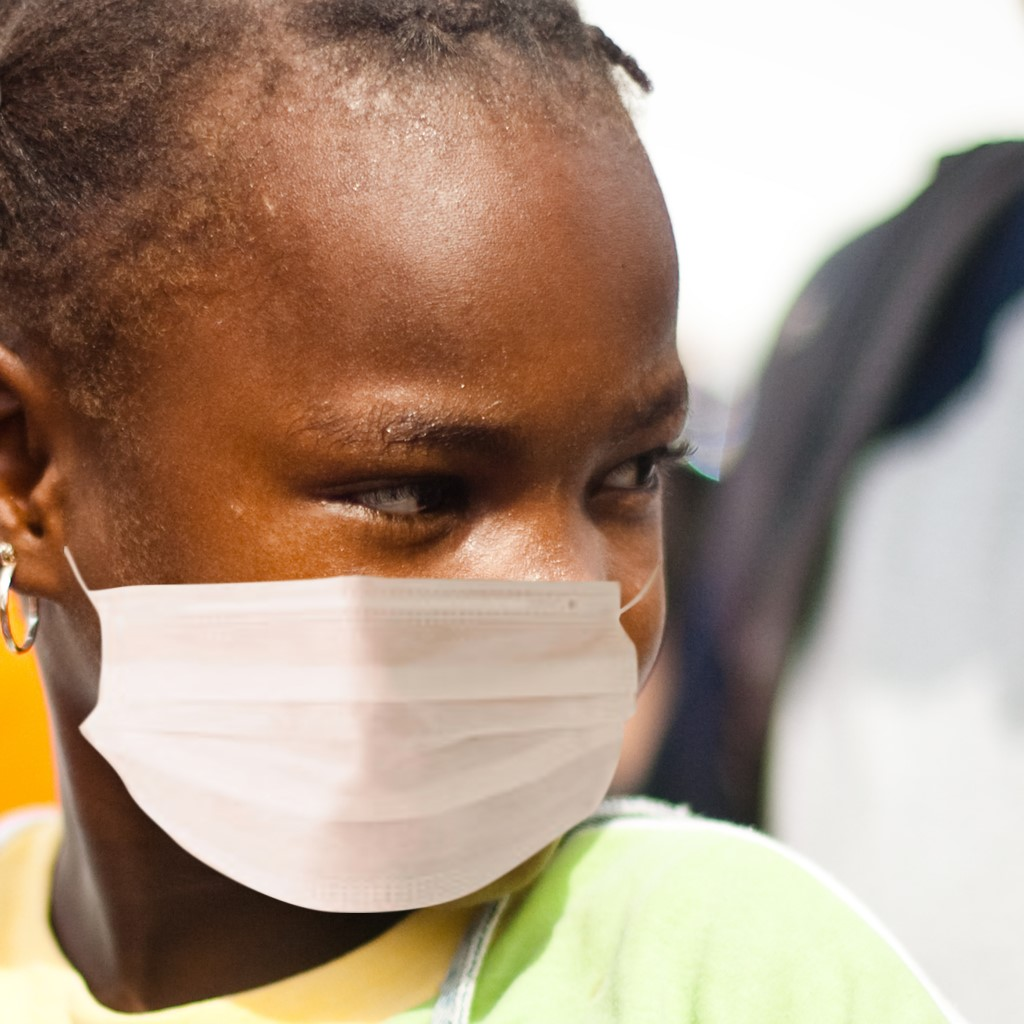con_mascara: (62, 66, 670, 899)
